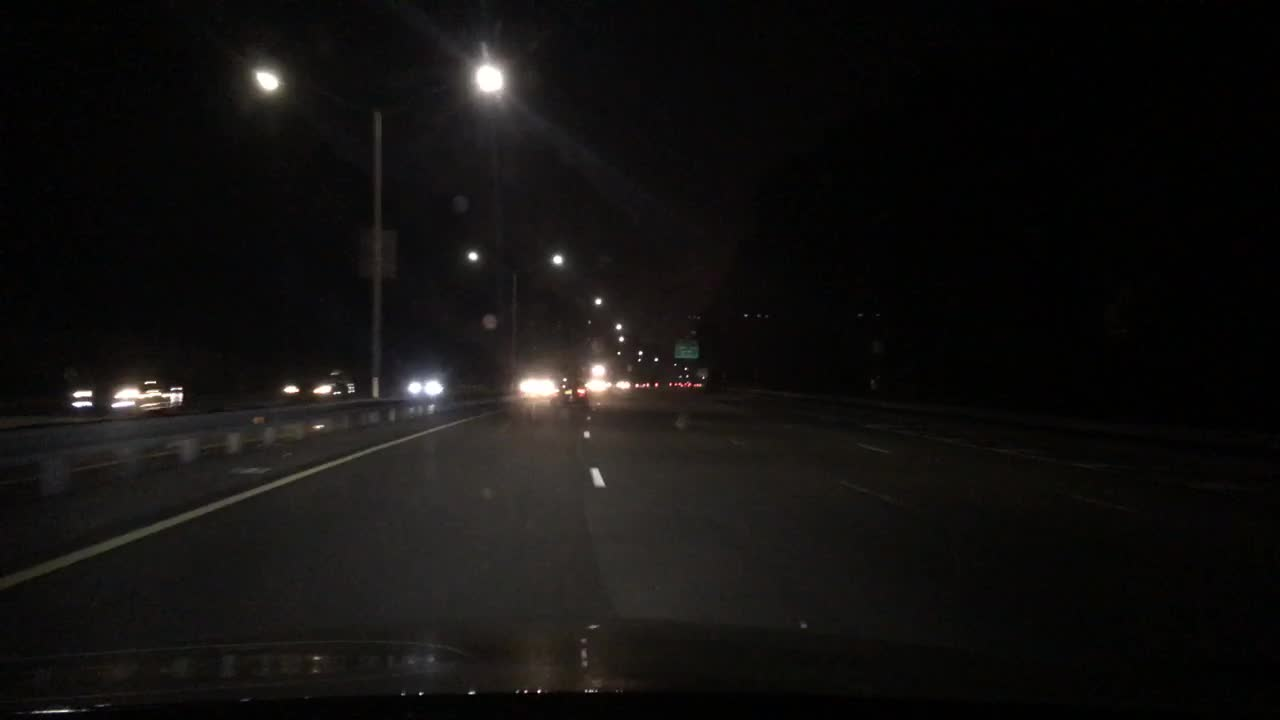car: (67, 355, 186, 420), (278, 364, 356, 403), (401, 366, 450, 402), (515, 373, 555, 400), (555, 379, 585, 406), (584, 377, 612, 392)
traffic sign: (356, 227, 397, 280), (672, 335, 698, 360)
